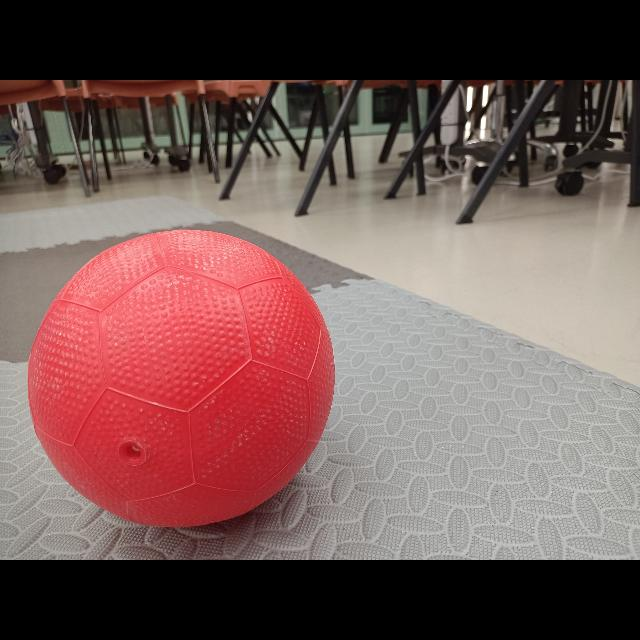R: (29, 226, 335, 532)
